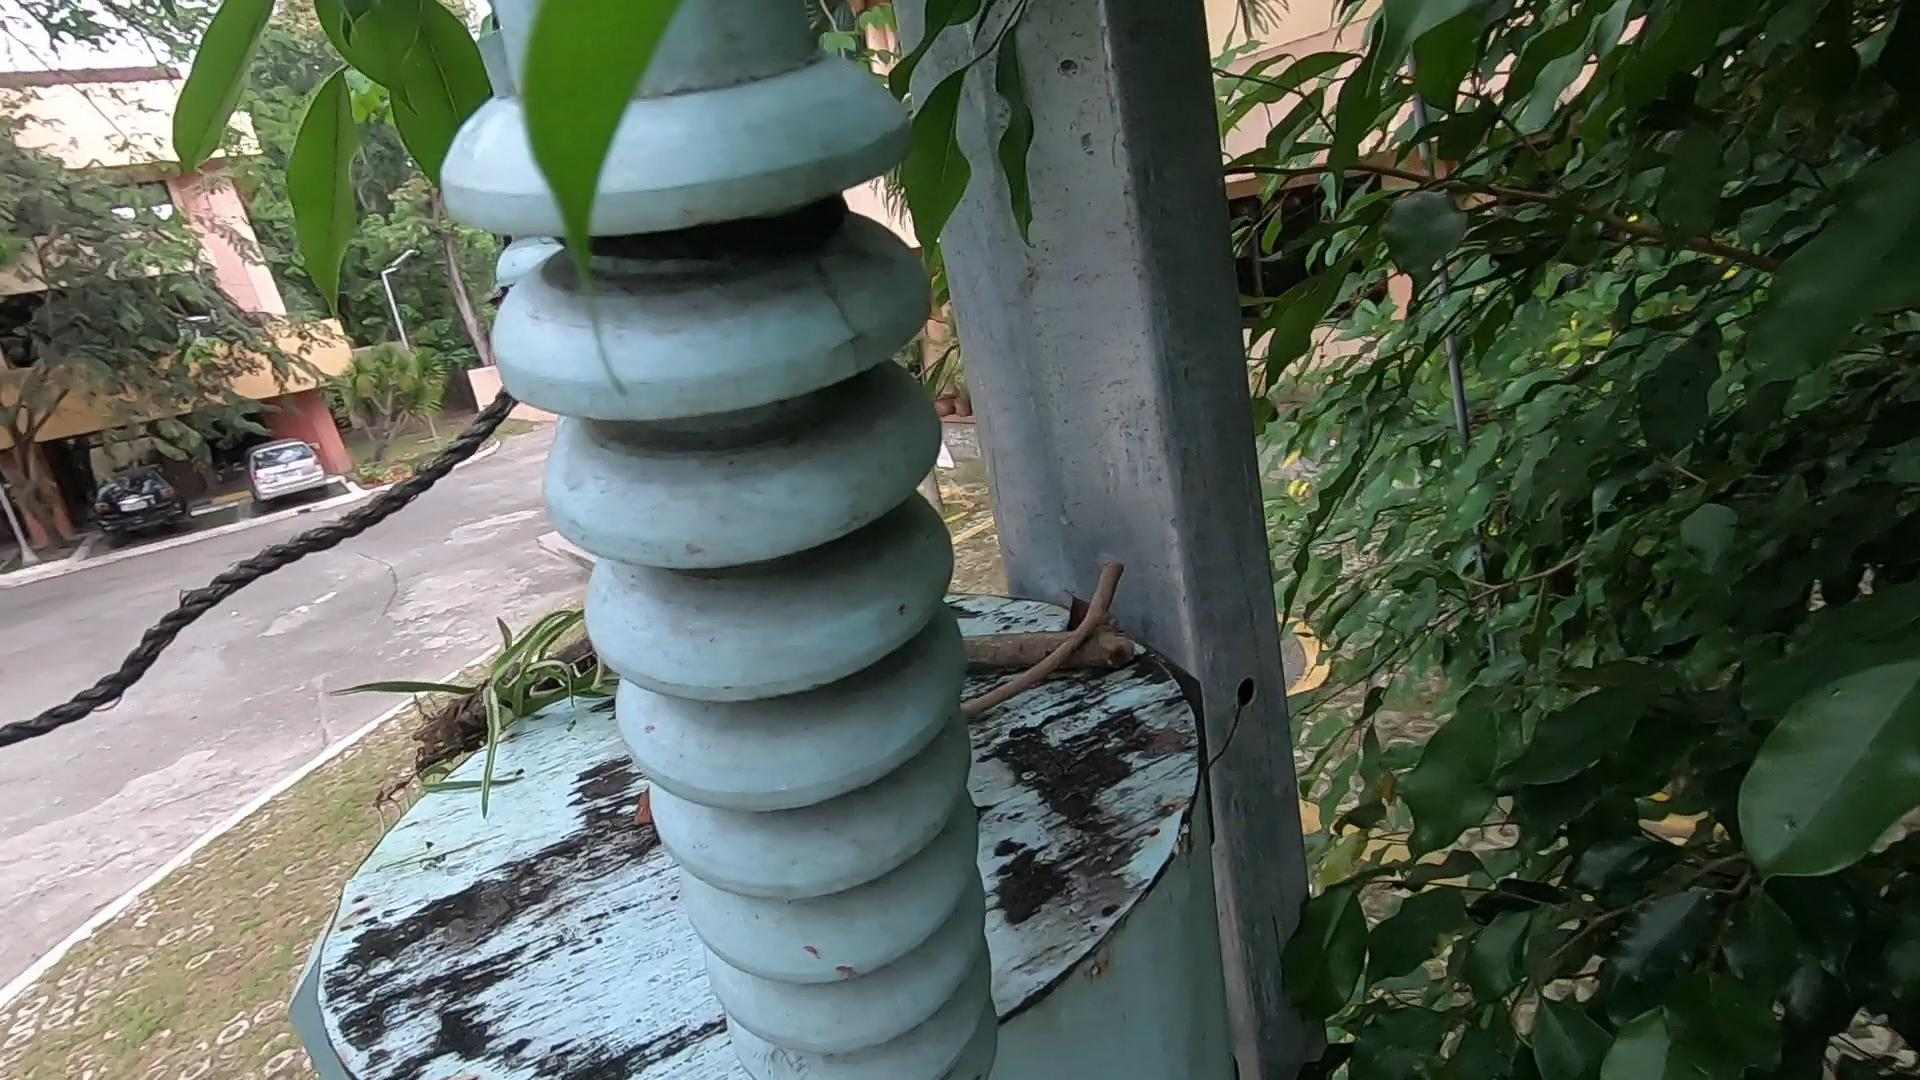branch with leaves: (378, 542, 1135, 789)
tree branch: (636, 498, 1197, 861)
